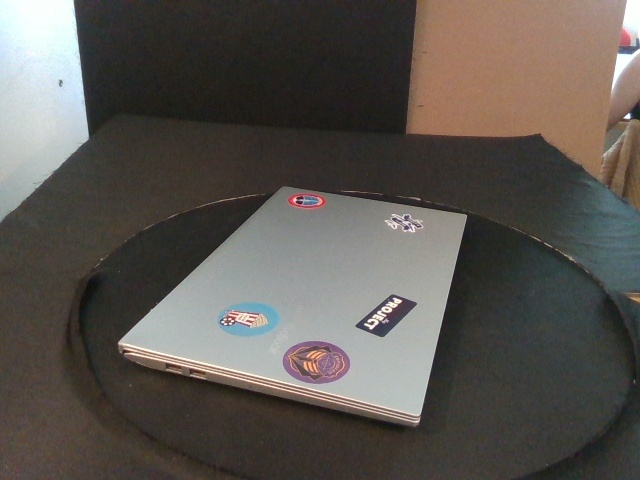laptop: (117, 185, 469, 431)
